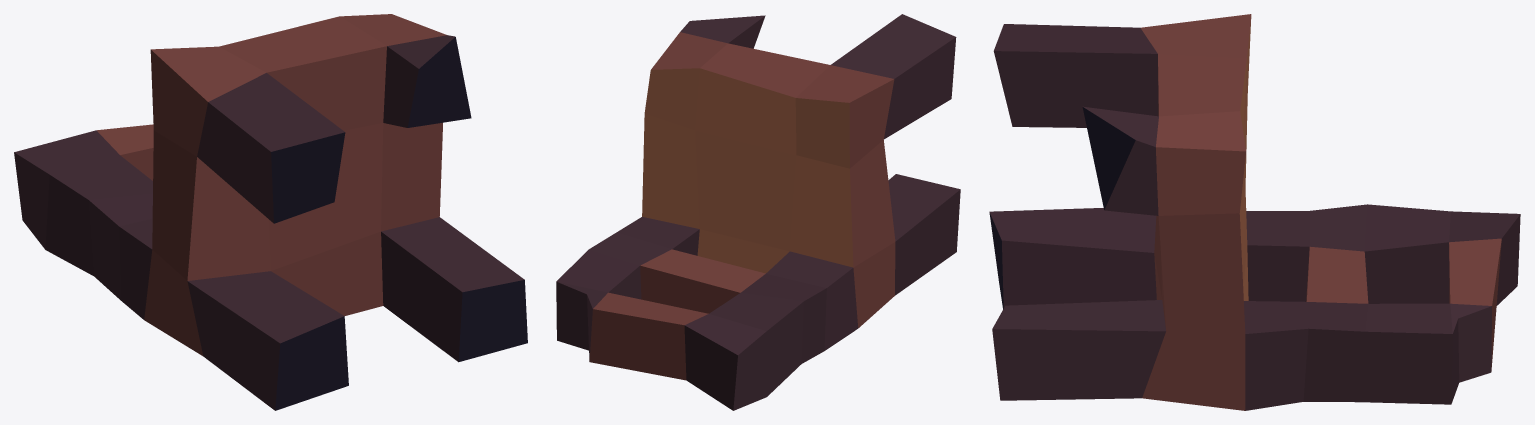
The model's file is chair.glb.
The picture shows the model from 3 angles, left to right: view 1: azimuth 30°, elevation 25°; view 2: azimuth 150°, elevation 25°; view 3: azimuth 270°, elevation 25°; orthographic projection. The views are drawn at different scales.
Visible parts, largest first — view 1: Chair; view 2: Chair; view 3: Chair.
Part boxes in pixels (x1,y1,x2,y2): Chair: [14, 14, 527, 410]; Chair: [556, 14, 960, 410]; Chair: [989, 14, 1520, 410].
Bounding box in the file's own units: 0.6828 × 0.6828 × 1.2.
Materials: 1 (1 with a texture image).
